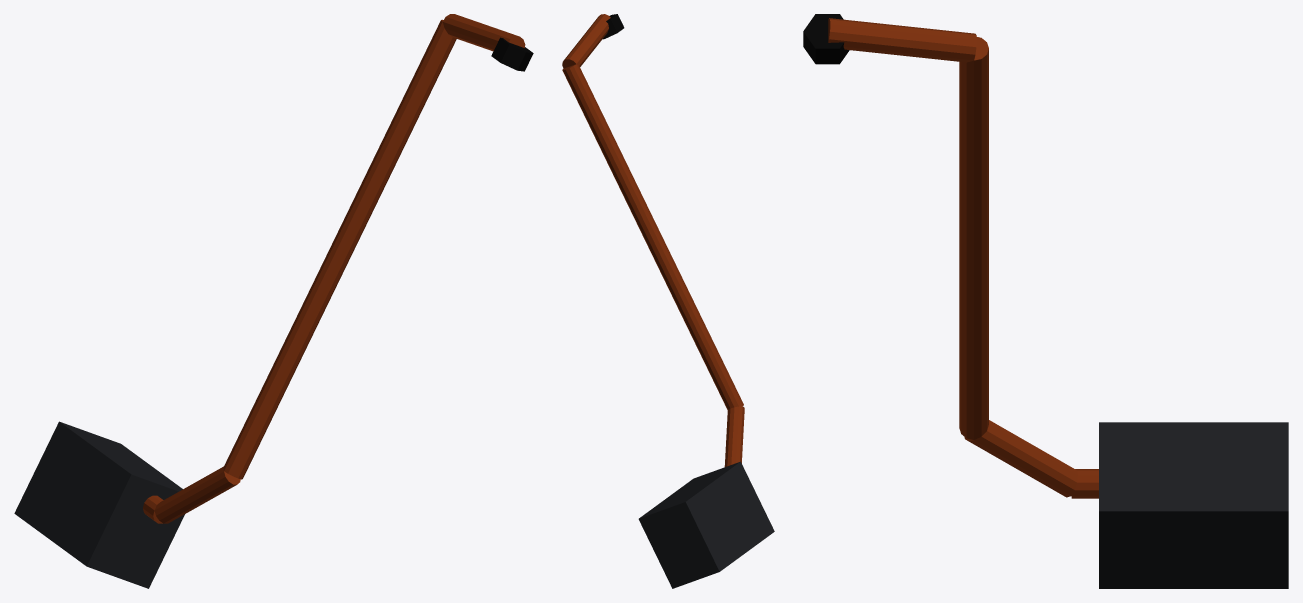
File: earthing_ok.obj
3 renders of one model, left to right at view 1: azimuth 30°, elevation 25°; view 2: azimuth 150°, elevation 25°; view 3: azimuth 270°, elevation 25°, orthographic. The views are drawn at different scales.
Visible parts, largest first — view 1: earthing_ok; view 2: earthing_ok; view 3: earthing_ok.
Part boxes in pixels (x1=…): earthing_ok: x1=14, y1=14, x2=533, y2=588; earthing_ok: x1=562, y1=14, x2=774, y2=588; earthing_ok: x1=803, y1=14, x2=1288, y2=588.
Bounding box in the file's own units: 0.3781 × 0.6007 × 0.358.
